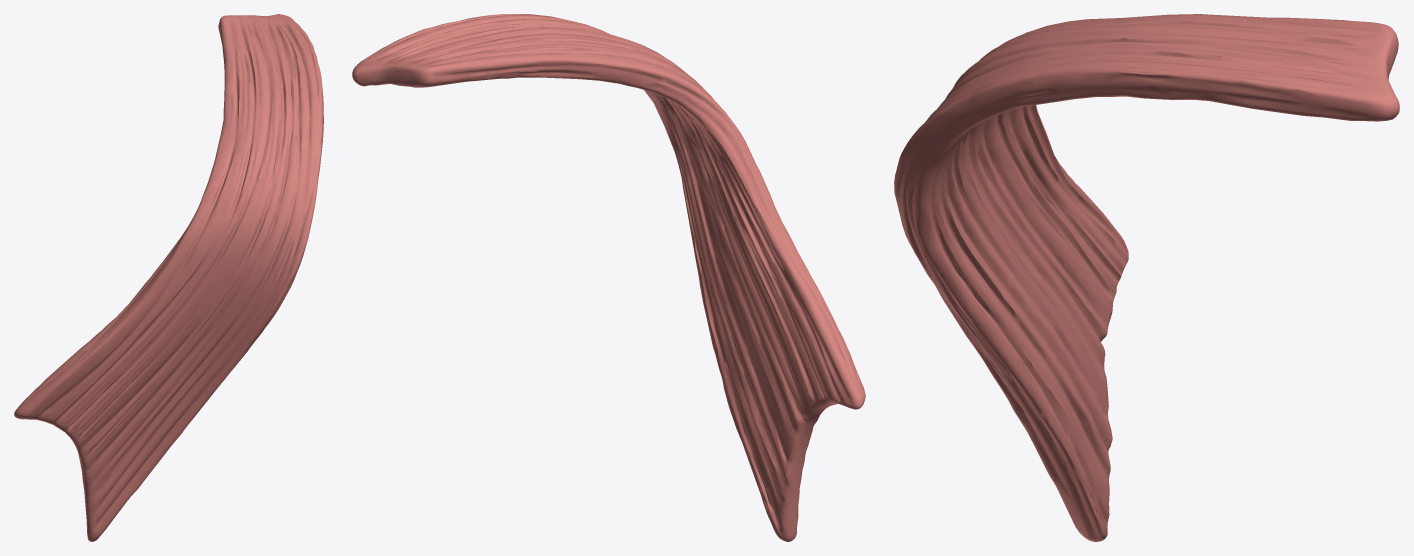
Rendered from fma46729_fj2741.glb.
3 views of the same model, side by side, from view 1: azimuth 30°, elevation 25°; view 2: azimuth 150°, elevation 25°; view 3: azimuth 270°, elevation 25° (orthographic). The views are drawn at different scales.
Visible parts, largest first — view 1: FMA46729_FJ2741; view 2: FMA46729_FJ2741; view 3: FMA46729_FJ2741.
Part boxes in pixels (x1,y1,x2,y2): FMA46729_FJ2741: (14,14,323,541); FMA46729_FJ2741: (352,14,865,541); FMA46729_FJ2741: (894,14,1399,541).
Size of the model in its own units: 0.03 by 0.0333 by 0.0219.
